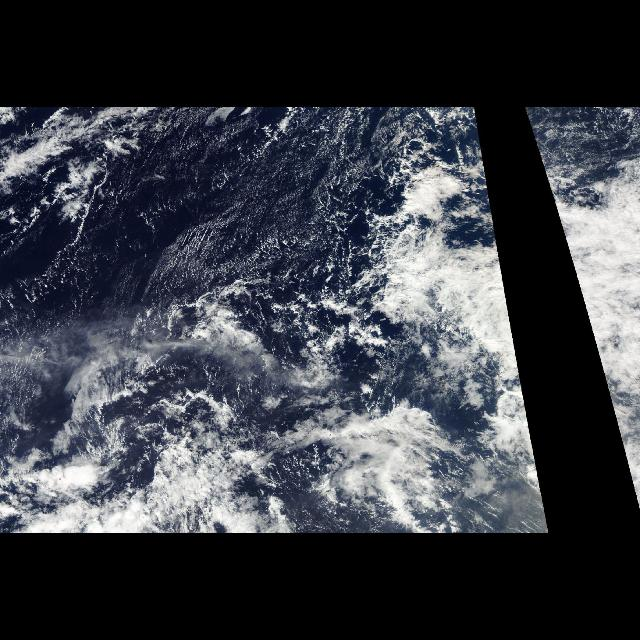Sugar: (56, 113, 370, 355)
